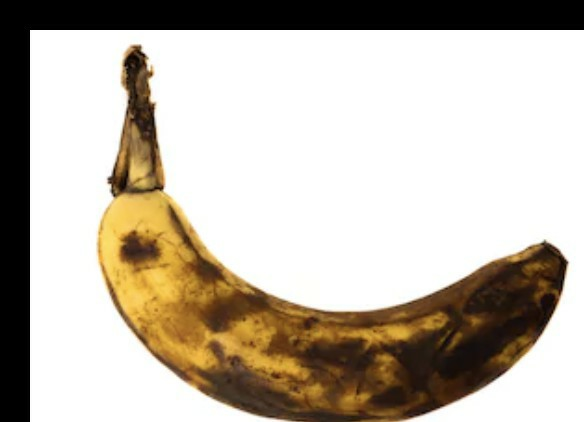rotten_banana: (100, 53, 569, 420)
